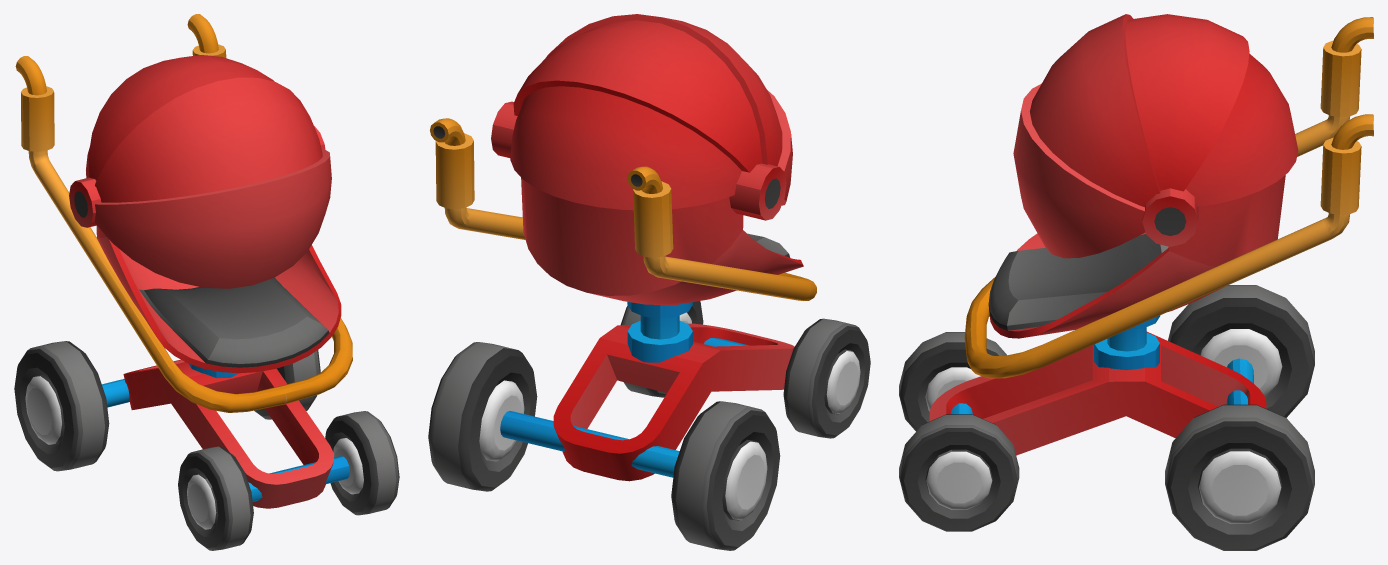
The model's file is baby_boss_bebek_arabasi.fbx.
The picture shows the model from 3 angles, left to right: view 1: azimuth 30°, elevation 25°; view 2: azimuth 150°, elevation 25°; view 3: azimuth 270°, elevation 25°; orthographic projection. The views are drawn at different scales.
Visible parts, largest first — view 1: baby_boss_bebek_arabasi2; view 2: baby_boss_bebek_arabasi2; view 3: baby_boss_bebek_arabasi2.
Part boxes in pixels (x1,y1,x2,y2): baby_boss_bebek_arabasi2: [14, 14, 399, 550]; baby_boss_bebek_arabasi2: [428, 14, 870, 550]; baby_boss_bebek_arabasi2: [899, 14, 1373, 550].
Bounding box in the file's own units: 0.7407 × 1.09 × 1.03.
